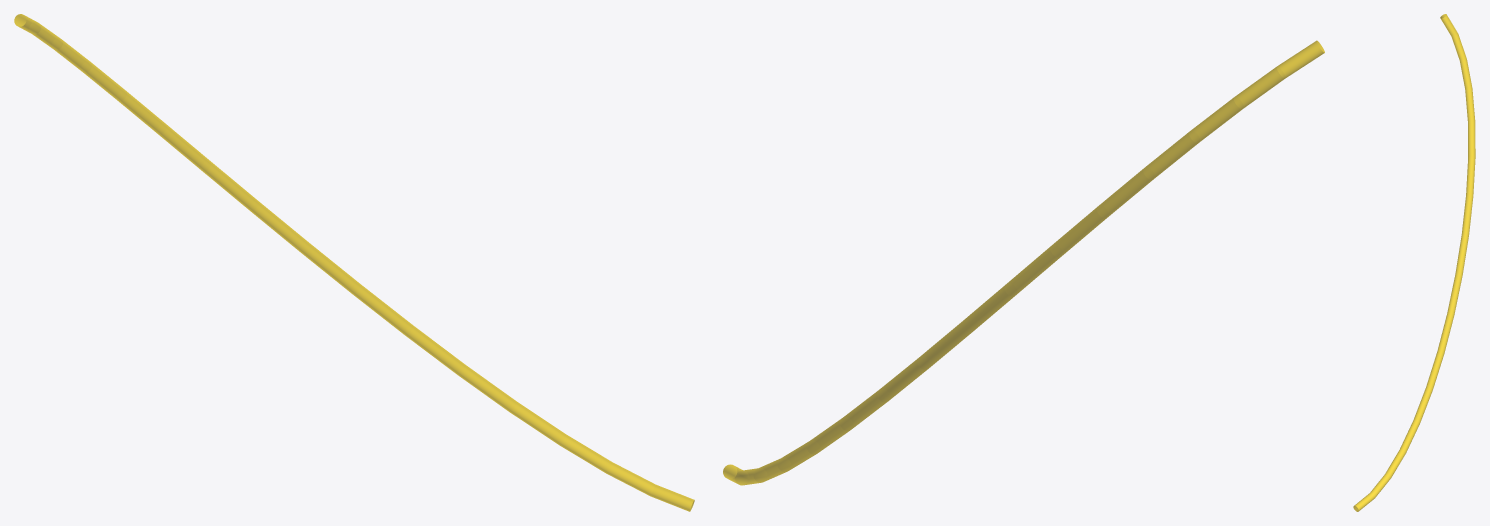
File: Event_15818458_track_36.fbx
3 views of the same model, side by side, from view 1: azimuth 30°, elevation 25°; view 2: azimuth 150°, elevation 25°; view 3: azimuth 270°, elevation 25° (orthographic). The views are drawn at different scales.
Parts seen in each view (by area): view 1: Model; view 2: Model; view 3: Model.
Boxes of the visible parts, x1=… form: Model: x1=14, y1=14, x2=694, y2=511; Model: x1=723, y1=40, x2=1324, y2=485; Model: x1=1353, y1=14, x2=1475, y2=511.
Size of the model in its own units: 2.13 by 1.97 by 0.6553.
